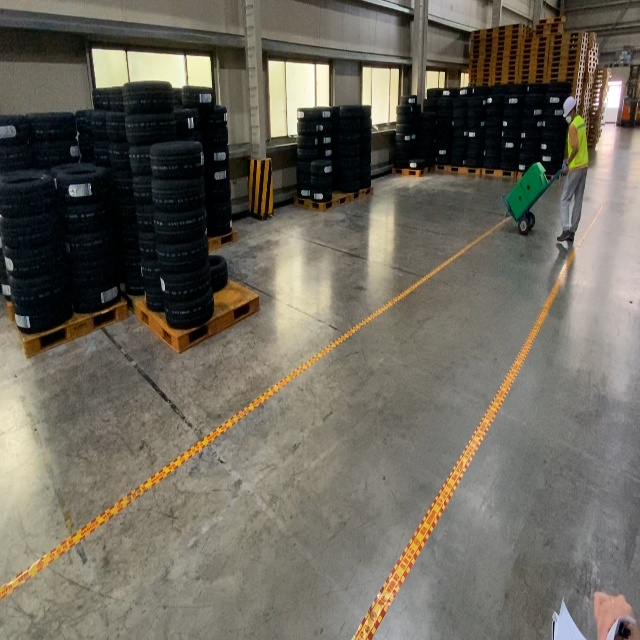Box: (520, 162, 549, 206), (506, 180, 530, 223)
Worker: (557, 96, 588, 241)
